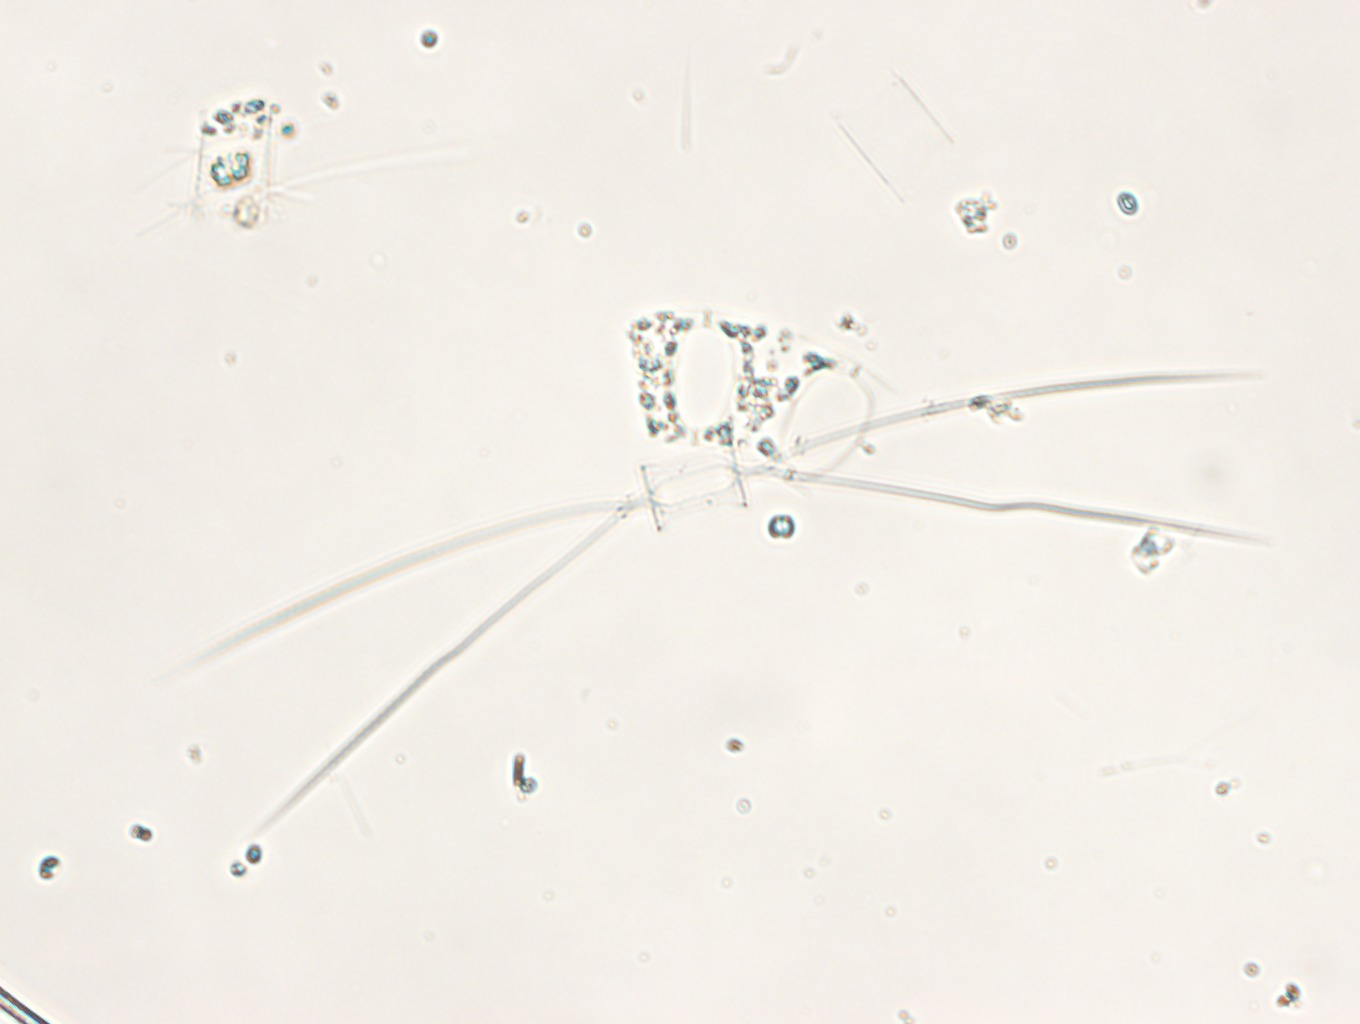chaetoceros: (180, 372, 1262, 845), (123, 97, 481, 233)
eucampia: (627, 310, 899, 486)
